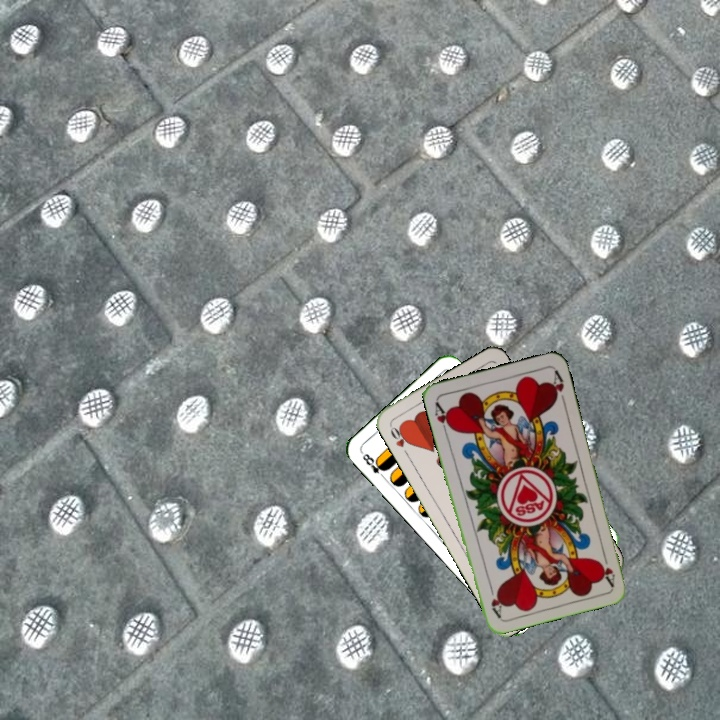E8: (358, 449, 389, 482)
HA: (431, 398, 455, 437), (595, 548, 617, 588)
HO: (386, 422, 413, 459)
